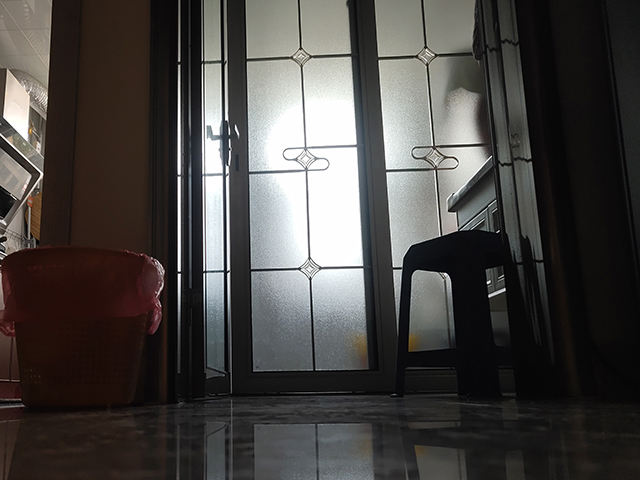stool: (388, 228, 522, 400)
trashcan: (1, 244, 165, 411)
